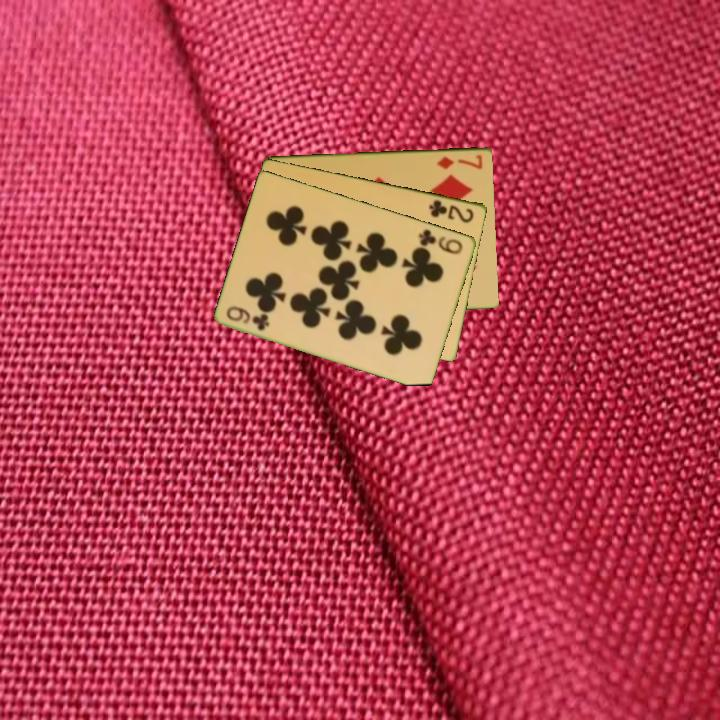2c: (425, 196, 477, 225)
7d: (434, 151, 486, 172)
9c: (415, 225, 466, 257), (223, 302, 273, 333)
